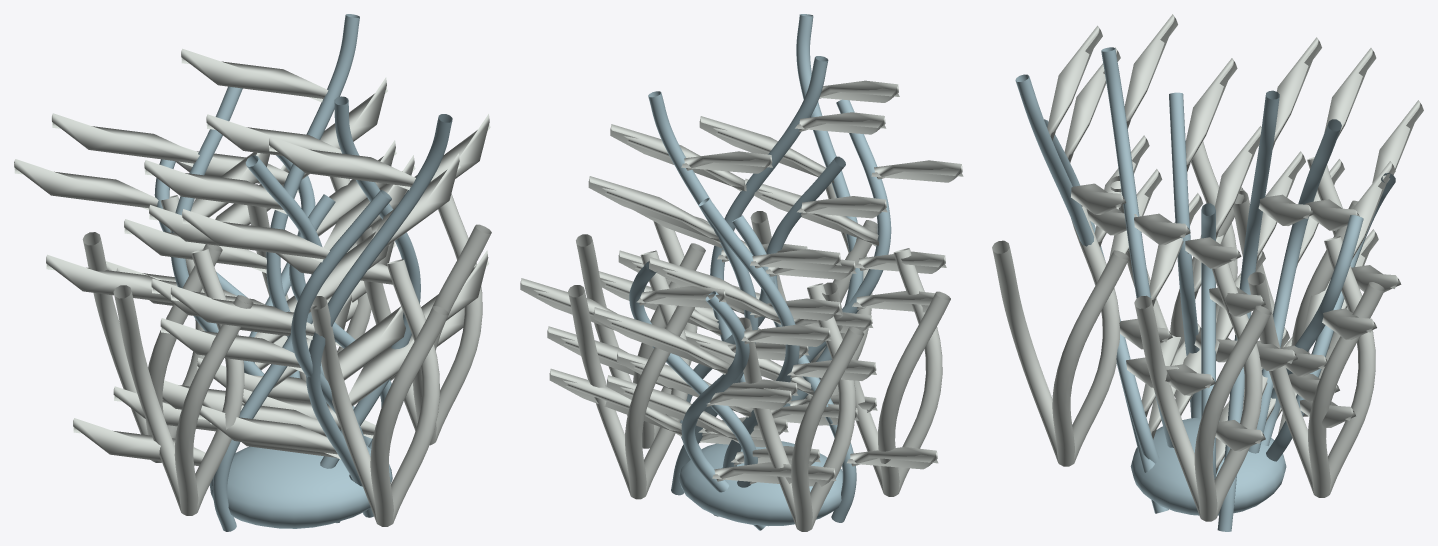
File: bio_aquatic_frond_14_near.glb
The picture shows the model from 3 angles, left to right: view 1: azimuth 30°, elevation 25°; view 2: azimuth 150°, elevation 25°; view 3: azimuth 270°, elevation 25°; orthographic projection. The views are drawn at different scales.
Visible parts, largest first — view 1: Ruffled aquatic blade.010, Spiral filament.006, Spiral filament.012, Holdfast, Ruffled aquatic blade.035, Ruffled aquatic blade.040, Ruffled aquatic blade.005, Ruffled aquatic blade.020, Ruffled aquatic blade.025, Spiral filament, Flexible stipe.002, Spiral filament.003 (+12 smaller); view 2: Ruffled aquatic blade.030, Spiral filament.003, Spiral filament.012, Spiral filament.009, Ruffled aquatic blade.005, Ruffled aquatic blade.020, Ruffled aquatic blade.015, Ruffled aquatic blade.025, Ruffled aquatic blade.040, Holdfast, Ruffled aquatic blade.010, Ruffled aquatic blade.035 (+12 smaller); view 3: Spiral filament.006, Spiral filament, Spiral filament.009, Ruffled aquatic blade.025, Holdfast, Ruffled aquatic blade.010, Ruffled aquatic blade.040, Ruffled aquatic blade, Ruffled aquatic blade.035, Flexible stipe.008, Ruffled aquatic blade.005, Flexible stipe.005 (+12 smaller).
Part boxes in pixels (x1,y1,x2,y2): Ruffled aquatic blade.010: [170, 136, 460, 458]; Spiral filament.006: [310, 259, 448, 526]; Spiral filament.012: [113, 249, 253, 515]; Holdfast: [209, 445, 392, 528]; Ruffled aquatic blade.035: [160, 209, 414, 459]; Ruffled aquatic blade.040: [124, 48, 395, 404]; Ruffled aquatic blade.005: [46, 113, 297, 409]; Ruffled aquatic blade.020: [73, 155, 415, 465]; Ruffled aquatic blade.025: [202, 114, 490, 436]; Spiral filament: [356, 193, 491, 445]; Flexible stipe.002: [306, 114, 452, 517]; Spiral filament.003: [82, 195, 222, 462]; Ruffled aquatic blade.030: [549, 307, 831, 483]; Spiral filament.003: [739, 283, 864, 531]; Spiral filament.012: [822, 248, 950, 496]; Spiral filament.009: [568, 250, 694, 499]; Ruffled aquatic blade.005: [617, 249, 876, 466]; Ruffled aquatic blade.020: [633, 196, 938, 469]; Ruffled aquatic blade.015: [520, 278, 836, 486]; Ruffled aquatic blade.025: [599, 112, 886, 424]; Ruffled aquatic blade.040: [588, 151, 841, 437]; Holdfast: [678, 441, 842, 526]; Ruffled aquatic blade.010: [699, 80, 946, 412]; Ruffled aquatic blade.035: [694, 160, 963, 425]; Spiral filament.006: [992, 205, 1129, 466]; Spiral filament: [1134, 263, 1271, 521]; Spiral filament.009: [1247, 236, 1384, 497]; Ruffled aquatic blade.025: [1124, 14, 1217, 415]; Holdfast: [1130, 417, 1286, 515]; Ruffled aquatic blade.010: [1047, 25, 1182, 416]; Ruffled aquatic blade.040: [1242, 37, 1321, 410]; Ruffled aquatic blade: [1209, 126, 1265, 474]; Ruffled aquatic blade.035: [1064, 47, 1201, 439]; Flexible stipe.008: [1217, 90, 1279, 531]; Ruffled aquatic blade.005: [1265, 48, 1376, 423]; Flexible stipe.005: [1101, 47, 1173, 447].
Size of the model in its own units: 1.8 by 1.89 by 1.66.
